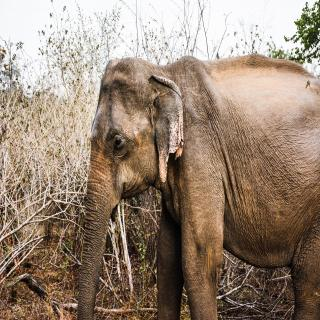Elephant: (75, 50, 320, 320)
